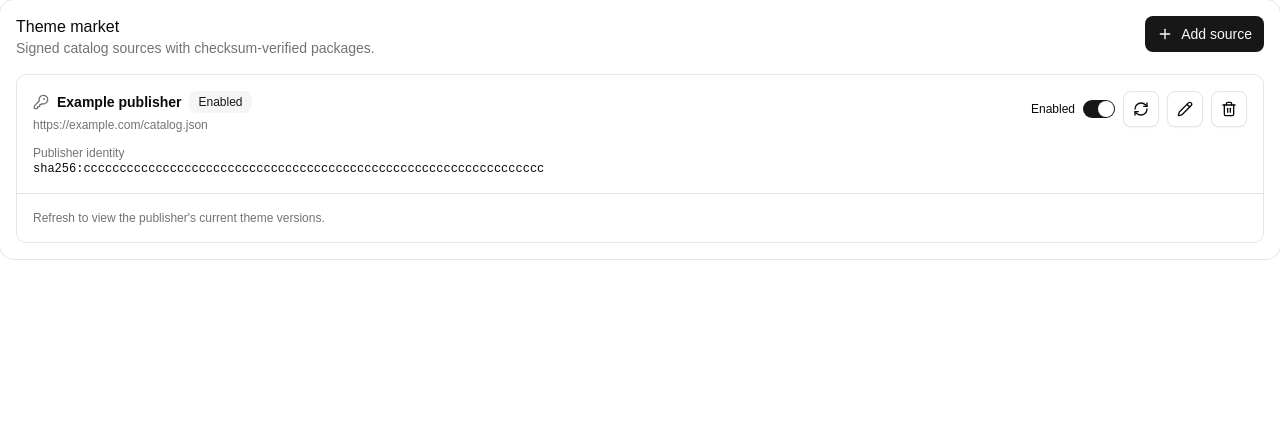
Test: verified theme market › renders a full cached catalog once and never fetches remote preview URLs
Click the button named "Refresh catalog". click: (1141,109)
box: left=1123, top=91, right=1159, bottom=127
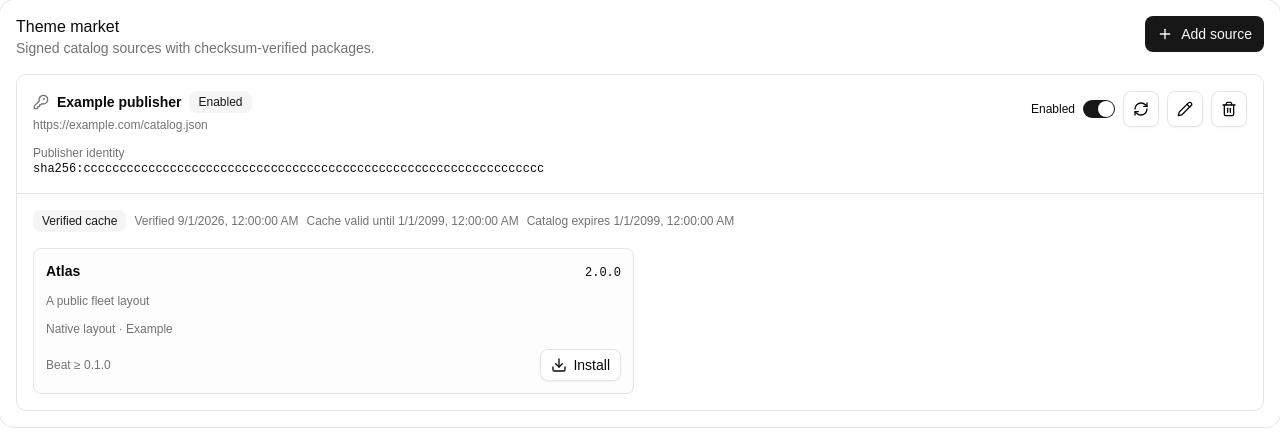
Now the number of headings "Atlas" is 1, box left=46, top=261, right=80, bottom=281
Now the text "Verified cache" is shown, box left=33, top=210, right=126, bottom=232
Now the button "Install" is enabled, box left=540, top=349, right=621, bottom=381
